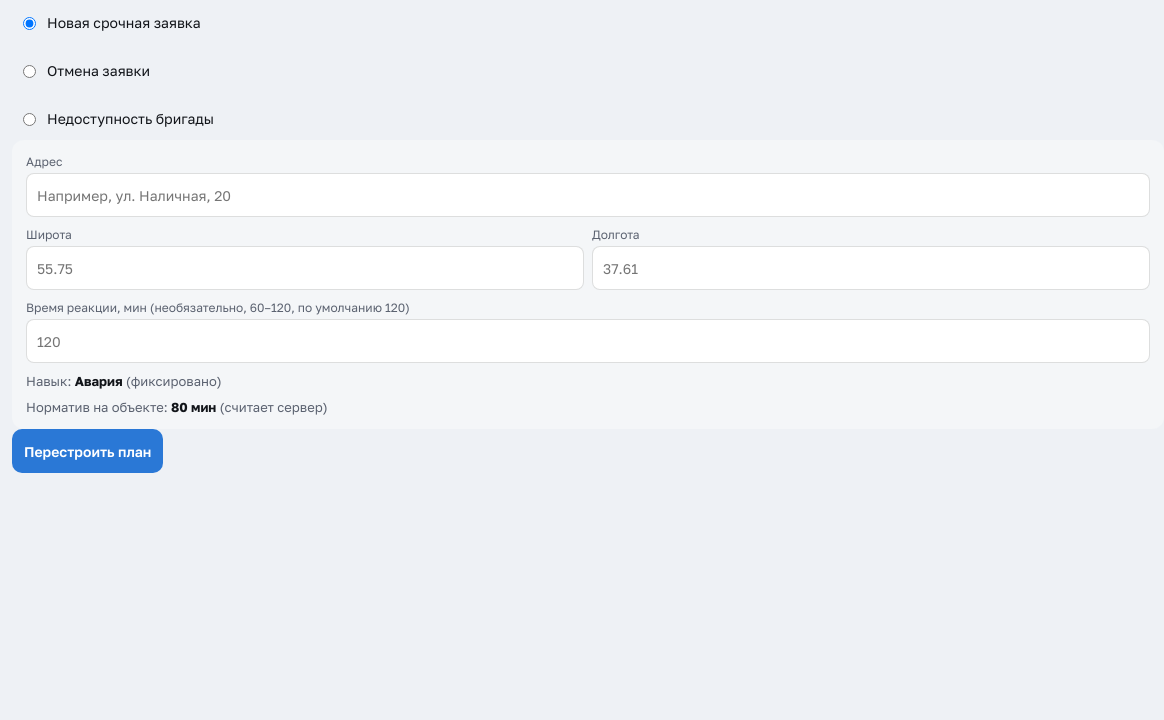
it: ReplanTab — ticket_cancelled › shows the conflict message when the ticket is not yet marked cancelled
Click the radio button labelled "Отмена заявки" at (30, 72), box [23,65,36,78]
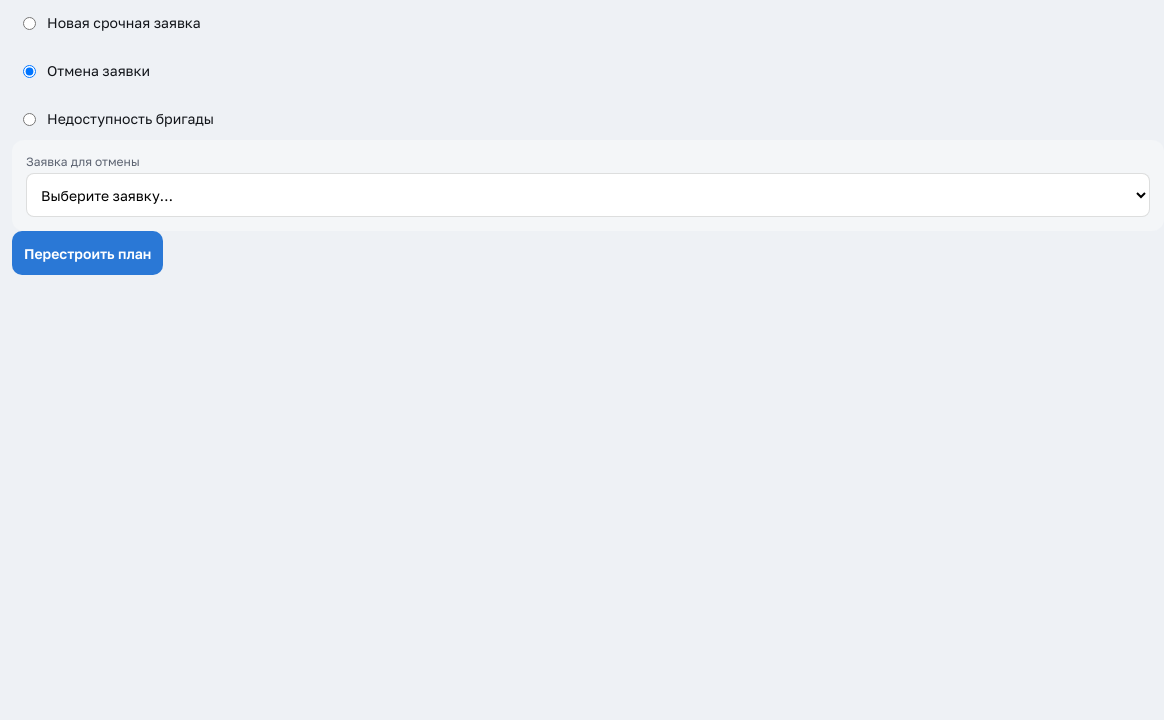
Select "ул. Тест, 1 — Бригада Соколов" in the dropdown labelled "Заявка для отмены" at (588, 195), box [26,173,1150,217]
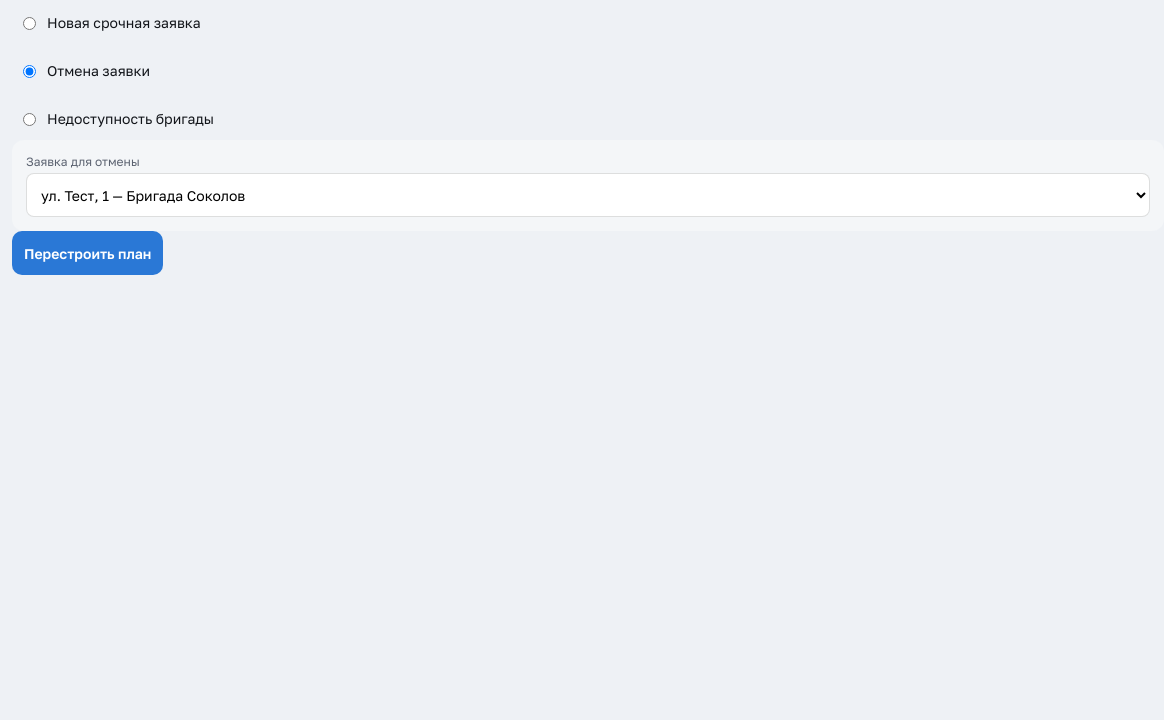
Click the button "Перестроить план" at (88, 253), box [12,231,163,275]
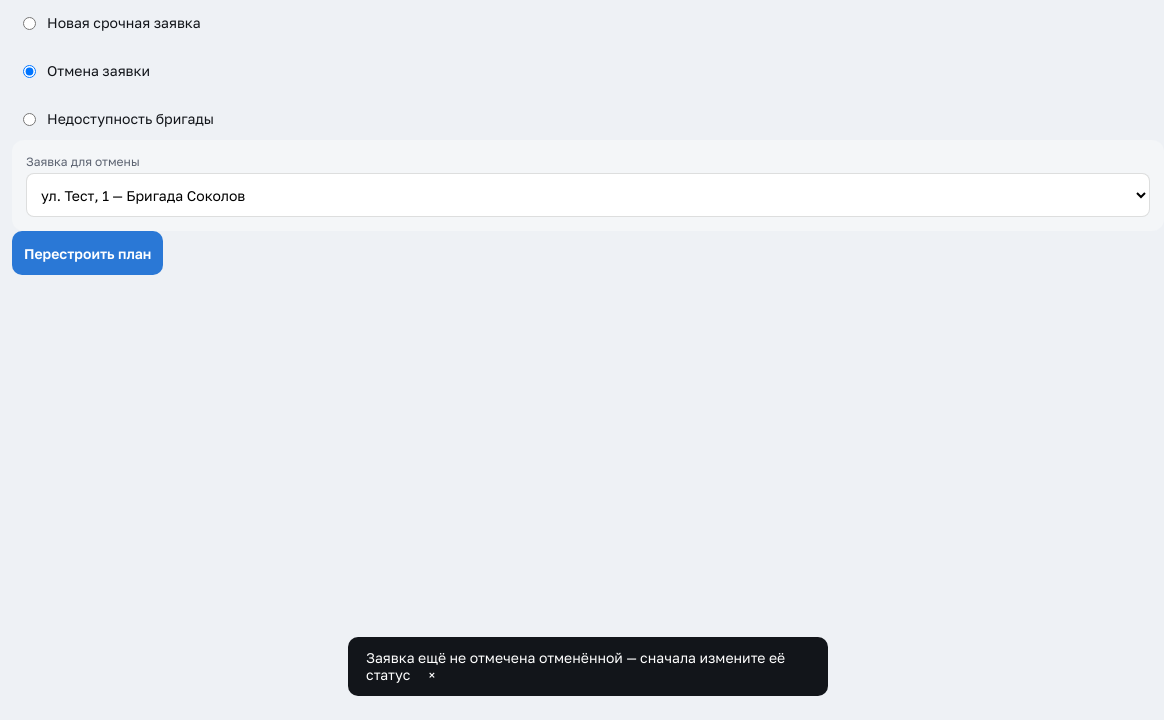
expect the text "Заявка ещё не отмечена отменённой — сначала измените её статус" is shown: met, box [366,649,785,683]
